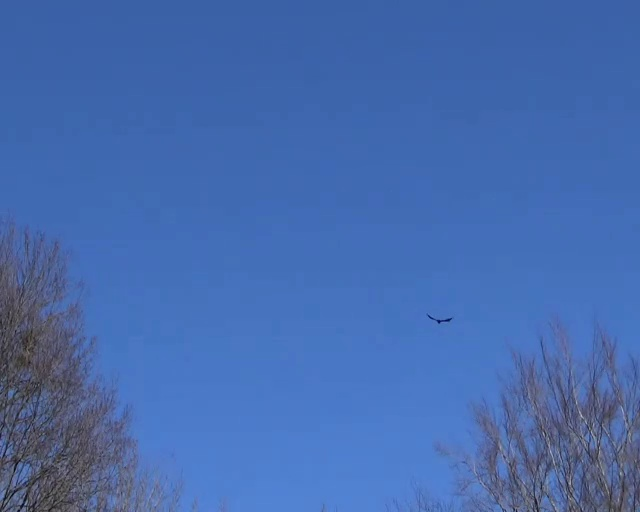BIRD: (426, 313, 453, 325)
